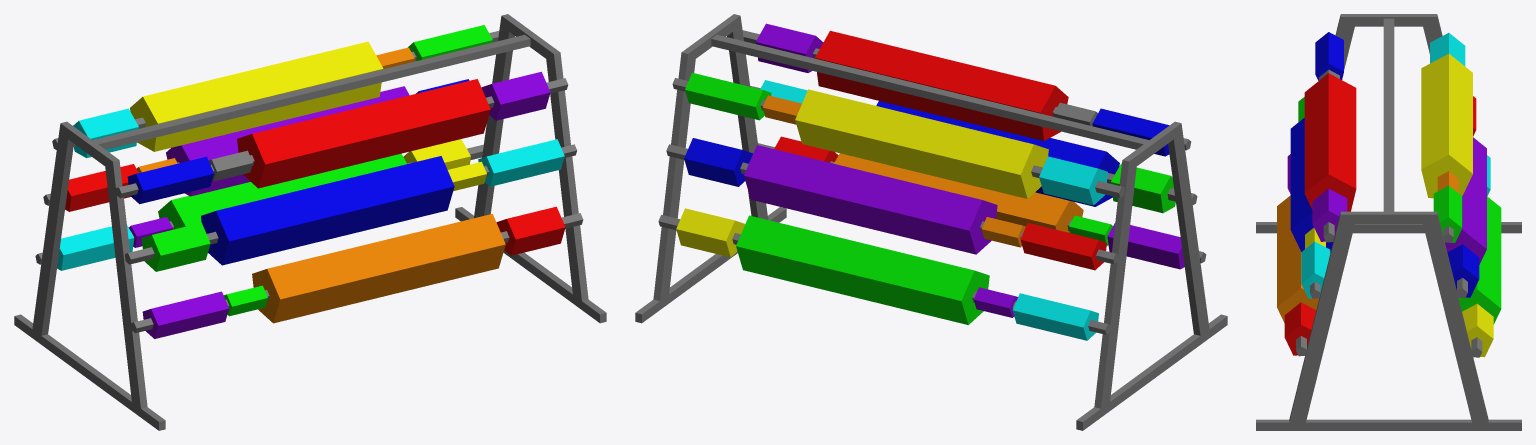
File: RollosCintas.fbx
3 views of the same model, side by side, from view 1: azimuth 30°, elevation 25°; view 2: azimuth 150°, elevation 25°; view 3: azimuth 270°, elevation 25° (orthographic). The views are drawn at different scales.
Visible parts, largest first — view 1: pCube20; view 2: pCube20; view 3: pCube20.
Part boxes in pixels (left/top/right/bottom): pCube20: left=14, top=14, right=606, bottom=430; pCube20: left=635, top=14, right=1227, bottom=430; pCube20: left=1256, top=14, right=1521, bottom=430.
Bounding box in the file's own units: 278 × 140 × 155.
